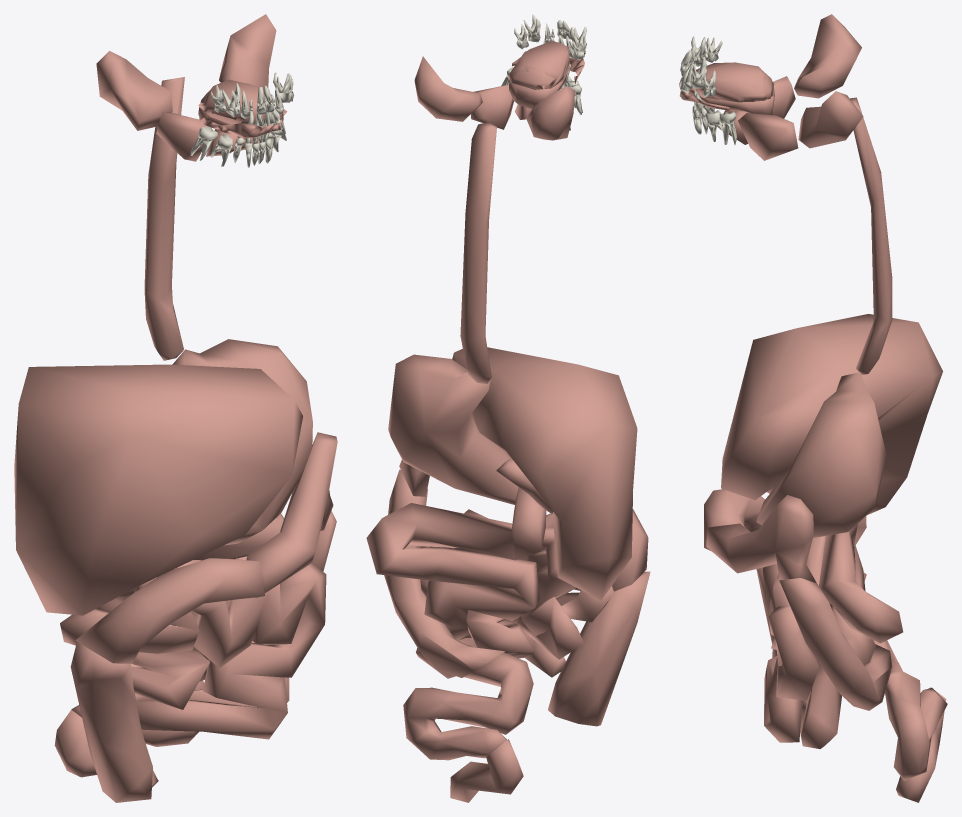
File: pediatric_infant_male.digestive.LOD3.glb
3 renders of one model, left to right at view 1: azimuth 30°, elevation 25°; view 2: azimuth 150°, elevation 25°; view 3: azimuth 270°, elevation 25°, orthographic. The views are drawn at different scales.
Visible parts, largest first — view 1: PEDIATRIC.INFANT.MALE.DIGESTIVE.LIVER, PEDIATRIC.INFANT.MALE.DIGESTIVE.SMALL_INTESTINE_WALL, PEDIATRIC.INFANT.MALE.DIGESTIVE.TRANSVERSE_COLON_WALL.R, PEDIATRIC.INFANT.MALE.DIGESTIVE.ASCENDING_COLON_WALL, PEDIATRIC.INFANT.MALE.DIGESTIVE.OESOPHAGUS_WALL, PEDIATRIC.INFANT.MALE.DIGESTIVE.TRANSVERSE_COLON_WALL.L, PEDIATRIC.INFANT.MALE.DIGESTIVE.SALIVARY_GLANDS.R, PEDIATRIC.INFANT.MALE.DIGESTIVE.STOMACH_WALL, PEDIATRIC.INFANT.MALE.DIGESTIVE.SALIVARY_GLANDS.L, PEDIATRIC.INFANT.MALE.DIGESTIVE.RECTUM_WALL, PEDIATRIC.INFANT.MALE.DIGESTIVE.DECIDUOUS_CEMENTUM, PEDIATRIC.INFANT.MALE.DIGESTIVE.ORAL_MUCOSA_MOUTH_FLOOR (+5 smaller); view 2: PEDIATRIC.INFANT.MALE.DIGESTIVE.LIVER, PEDIATRIC.INFANT.MALE.DIGESTIVE.SMALL_INTESTINE_WALL, PEDIATRIC.INFANT.MALE.DIGESTIVE.STOMACH_WALL, PEDIATRIC.INFANT.MALE.DIGESTIVE.SIGMOID_COLON_WALL, PEDIATRIC.INFANT.MALE.DIGESTIVE.ASCENDING_COLON_WALL, PEDIATRIC.INFANT.MALE.DIGESTIVE.OESOPHAGUS_WALL, PEDIATRIC.INFANT.MALE.DIGESTIVE.DESCENDING_COLON_WALL, PEDIATRIC.INFANT.MALE.DIGESTIVE.SALIVARY_GLANDS.L, PEDIATRIC.INFANT.MALE.DIGESTIVE.RECTUM_WALL, PEDIATRIC.INFANT.MALE.DIGESTIVE.SALIVARY_GLANDS.R, PEDIATRIC.INFANT.MALE.DIGESTIVE.ORAL_MUCOSA_MOUTH_FLOOR, PEDIATRIC.INFANT.MALE.DIGESTIVE.TRANSVERSE_COLON_WALL.R (+6 smaller); view 3: PEDIATRIC.INFANT.MALE.DIGESTIVE.LIVER, PEDIATRIC.INFANT.MALE.DIGESTIVE.SMALL_INTESTINE_WALL, PEDIATRIC.INFANT.MALE.DIGESTIVE.STOMACH_WALL, PEDIATRIC.INFANT.MALE.DIGESTIVE.DESCENDING_COLON_WALL, PEDIATRIC.INFANT.MALE.DIGESTIVE.TRANSVERSE_COLON_WALL.L, PEDIATRIC.INFANT.MALE.DIGESTIVE.SALIVARY_GLANDS.L, PEDIATRIC.INFANT.MALE.DIGESTIVE.OESOPHAGUS_WALL, PEDIATRIC.INFANT.MALE.DIGESTIVE.SIGMOID_COLON_WALL, PEDIATRIC.INFANT.MALE.DIGESTIVE.SALIVARY_GLANDS.R, PEDIATRIC.INFANT.MALE.DIGESTIVE.TRANSVERSE_COLON_WALL.R, PEDIATRIC.INFANT.MALE.DIGESTIVE.ORAL_MUCOSA_MOUTH_FLOOR, PEDIATRIC.INFANT.MALE.DIGESTIVE.DECIDUOUS_CEMENTUM (+5 smaller).
Part boxes in pixels (<box>): PEDIATRIC.INFANT.MALE.DIGESTIVE.LIVER: <box>14,364,302,615</box>; PEDIATRIC.INFANT.MALE.DIGESTIVE.SMALL_INTESTINE_WALL: <box>60,513,326,739</box>; PEDIATRIC.INFANT.MALE.DIGESTIVE.TRANSVERSE_COLON_WALL.R: <box>75,558,264,663</box>; PEDIATRIC.INFANT.MALE.DIGESTIVE.ASCENDING_COLON_WALL: <box>70,642,152,802</box>; PEDIATRIC.INFANT.MALE.DIGESTIVE.OESOPHAGUS_WALL: <box>144,77,184,360</box>; PEDIATRIC.INFANT.MALE.DIGESTIVE.TRANSVERSE_COLON_WALL.L: <box>246,432,337,599</box>; PEDIATRIC.INFANT.MALE.DIGESTIVE.SALIVARY_GLANDS.R: <box>96,51,242,161</box>; PEDIATRIC.INFANT.MALE.DIGESTIVE.STOMACH_WALL: <box>172,339,312,545</box>; PEDIATRIC.INFANT.MALE.DIGESTIVE.SALIVARY_GLANDS.L: <box>219,14,276,150</box>; PEDIATRIC.INFANT.MALE.DIGESTIVE.RECTUM_WALL: <box>54,710,158,787</box>; PEDIATRIC.INFANT.MALE.DIGESTIVE.DECIDUOUS_CEMENTUM: <box>190,72,293,166</box>; PEDIATRIC.INFANT.MALE.DIGESTIVE.ORAL_MUCOSA_MOUTH_FLOOR: <box>198,79,265,124</box>; PEDIATRIC.INFANT.MALE.DIGESTIVE.LIVER: <box>452,347,637,600</box>; PEDIATRIC.INFANT.MALE.DIGESTIVE.SMALL_INTESTINE_WALL: <box>366,487,613,678</box>; PEDIATRIC.INFANT.MALE.DIGESTIVE.STOMACH_WALL: <box>388,354,518,504</box>; PEDIATRIC.INFANT.MALE.DIGESTIVE.SIGMOID_COLON_WALL: <box>403,652,533,760</box>; PEDIATRIC.INFANT.MALE.DIGESTIVE.ASCENDING_COLON_WALL: <box>548,571,650,726</box>; PEDIATRIC.INFANT.MALE.DIGESTIVE.OESOPHAGUS_WALL: <box>460,122,496,383</box>; PEDIATRIC.INFANT.MALE.DIGESTIVE.DESCENDING_COLON_WALL: <box>384,469,504,677</box>; PEDIATRIC.INFANT.MALE.DIGESTIVE.SALIVARY_GLANDS.L: <box>414,56,532,129</box>; PEDIATRIC.INFANT.MALE.DIGESTIVE.RECTUM_WALL: <box>450,739,523,802</box>; PEDIATRIC.INFANT.MALE.DIGESTIVE.SALIVARY_GLANDS.R: <box>526,86,575,140</box>; PEDIATRIC.INFANT.MALE.DIGESTIVE.ORAL_MUCOSA_MOUTH_FLOOR: <box>508,41,569,89</box>; PEDIATRIC.INFANT.MALE.DIGESTIVE.TRANSVERSE_COLON_WALL.R: <box>612,509,648,591</box>; PEDIATRIC.INFANT.MALE.DIGESTIVE.LIVER: <box>721,314,942,514</box>; PEDIATRIC.INFANT.MALE.DIGESTIVE.SMALL_INTESTINE_WALL: <box>762,516,903,748</box>; PEDIATRIC.INFANT.MALE.DIGESTIVE.STOMACH_WALL: <box>756,372,886,537</box>; PEDIATRIC.INFANT.MALE.DIGESTIVE.DESCENDING_COLON_WALL: <box>779,578,892,710</box>; PEDIATRIC.INFANT.MALE.DIGESTIVE.TRANSVERSE_COLON_WALL.L: <box>706,495,816,583</box>; PEDIATRIC.INFANT.MALE.DIGESTIVE.SALIVARY_GLANDS.L: <box>729,91,863,160</box>; PEDIATRIC.INFANT.MALE.DIGESTIVE.OESOPHAGUS_WALL: <box>850,97,892,374</box>; PEDIATRIC.INFANT.MALE.DIGESTIVE.SIGMOID_COLON_WALL: <box>873,640,947,780</box>; PEDIATRIC.INFANT.MALE.DIGESTIVE.SALIVARY_GLANDS.R: <box>724,14,861,118</box>; PEDIATRIC.INFANT.MALE.DIGESTIVE.TRANSVERSE_COLON_WALL.R: <box>704,489,764,550</box>; PEDIATRIC.INFANT.MALE.DIGESTIVE.ORAL_MUCOSA_MOUTH_FLOOR: <box>693,62,774,102</box>; PEDIATRIC.INFANT.MALE.DIGESTIVE.DECIDUOUS_CEMENTUM: <box>680,37,736,144</box>.
Bounding box in the file's own units: 0.1364 × 0.3665 × 0.1181.
